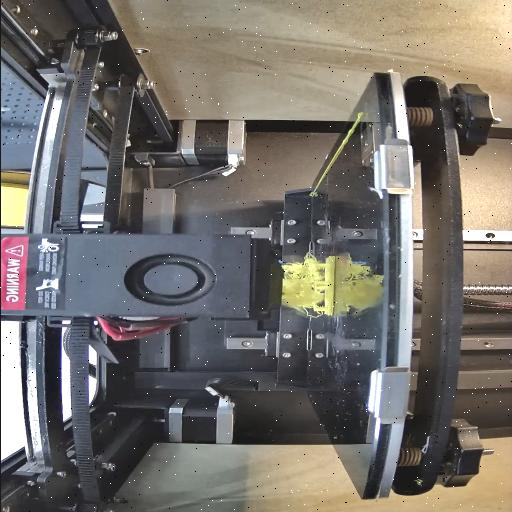spaghetti: (276, 256, 324, 318)
